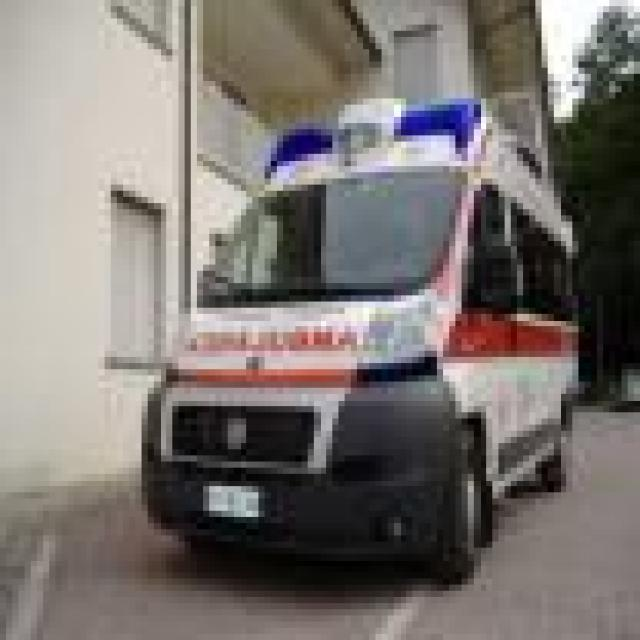emergency-vehicle: (120, 89, 582, 594)
